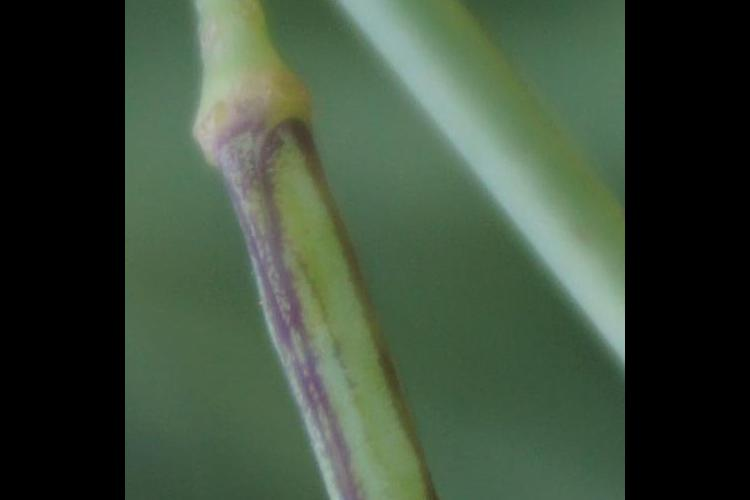pod: (189, 81, 493, 500)
